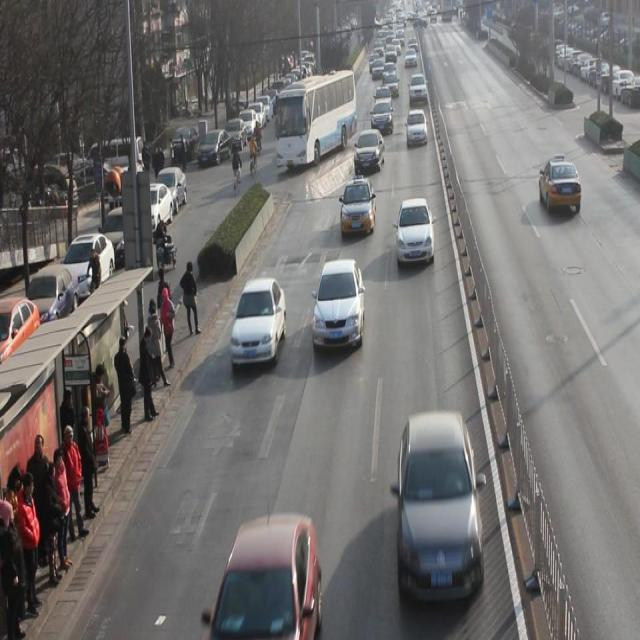car: (397, 414, 486, 610), (209, 513, 323, 640), (230, 278, 287, 368), (312, 260, 366, 353), (396, 197, 435, 266), (538, 158, 582, 215), (341, 179, 376, 237), (354, 130, 386, 176), (405, 108, 428, 150), (370, 102, 394, 137), (374, 86, 393, 113)
van: (274, 70, 357, 171)
